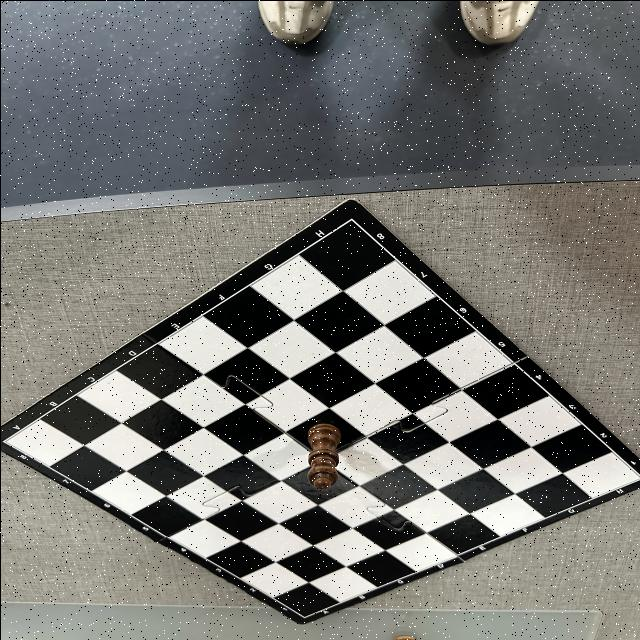Black-Queen: (306, 422, 340, 489)
